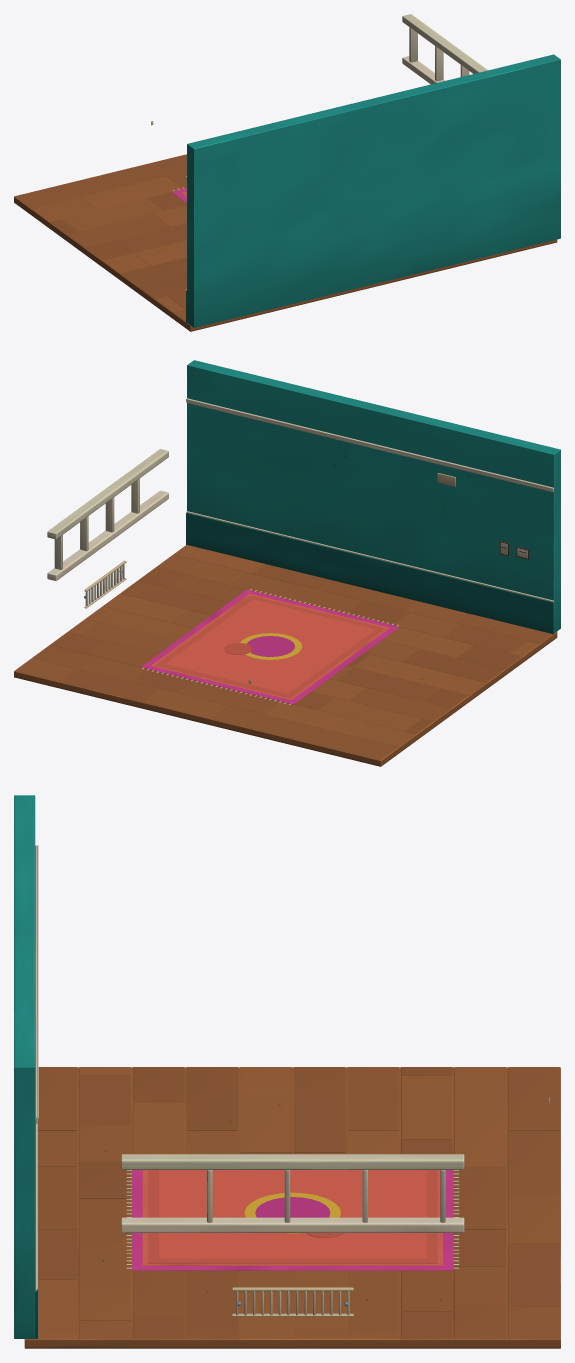
Rendered from SM_Office_Shell.fbx.
The picture shows the model from 3 angles, top to bottom: view 1: azimuth 30°, elevation 25°; view 2: azimuth 150°, elevation 25°; view 3: azimuth 270°, elevation 25°; orthographic projection. The views are drawn at different scales.
Visible parts, largest first — view 1: SM_Office_Shell; view 2: SM_Office_Shell; view 3: SM_Office_Shell.
Part boxes in pixels (x1=…): SM_Office_Shell: x1=14, y1=14, x2=560, y2=331; SM_Office_Shell: x1=14, y1=360, x2=560, y2=766; SM_Office_Shell: x1=14, y1=795, x2=560, y2=1348.
Size of the model in its own units: 1200 by 580 by 1020.
